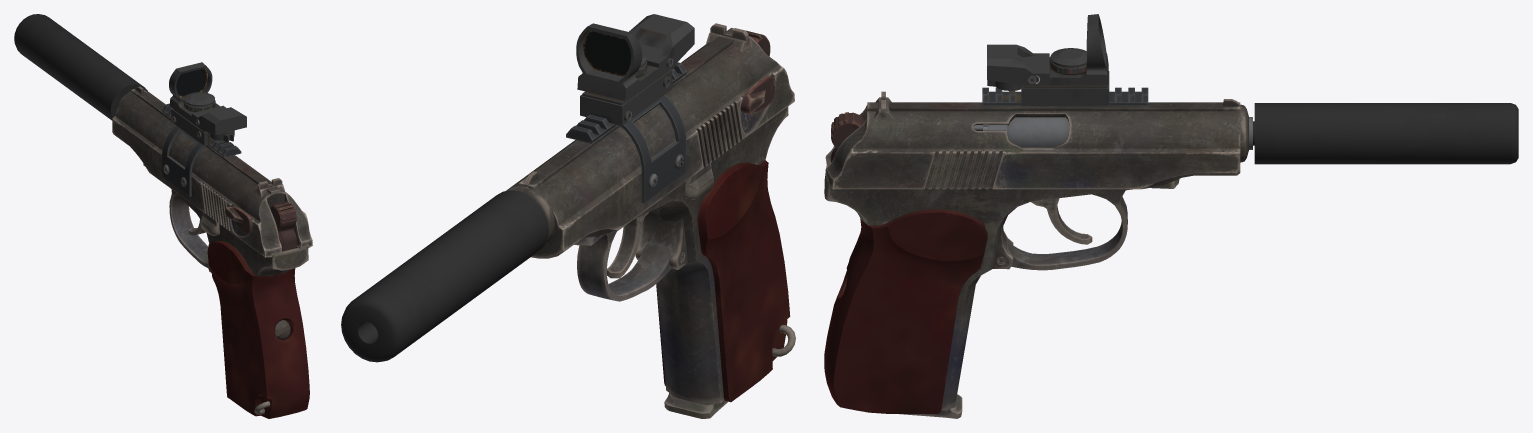
Rendered from Makarov_aligned.obj.
3 renders of one model, left to right at view 1: azimuth 30°, elevation 25°; view 2: azimuth 150°, elevation 25°; view 3: azimuth 270°, elevation 25°, orthographic. The views are drawn at different scales.
Visible parts, largest first — view 1: body_1Makarov_0, slide_1Makarov_0, suppressor_lp_suppressor_0, bottom_lp_holder_0, hammer_1Makarov_0, fireselect_1Makarov_0, magrelease_1Makarov_0; view 2: body_1Makarov_0, slide_1Makarov_0, suppressor_lp_suppressor_0, bottom_lp_holder_0, trigger_1Makarov_0, fireselect_1Makarov_0, mag_1Makarov_0, magrelease_1Makarov_0; view 3: body_1Makarov_0, slide_1Makarov_0, suppressor_lp_suppressor_0, bottom_lp_holder_0, trigger_1Makarov_0, hammer_1Makarov_0.
Boxes of the visible parts, <box> form: body_1Makarov_0: <box>143,163,309,418</box>; slide_1Makarov_0: <box>112,86,312,257</box>; suppressor_lp_suppressor_0: <box>14,14,147,120</box>; bottom_lp_holder_0: <box>162,62,246,196</box>; hammer_1Makarov_0: <box>270,201,296,251</box>; fireselect_1Makarov_0: <box>225,206,251,233</box>; magrelease_1Makarov_0: <box>200,212,219,235</box>; body_1Makarov_0: <box>574,106,795,403</box>; slide_1Makarov_0: <box>506,23,794,258</box>; suppressor_lp_suppressor_0: <box>341,190,548,362</box>; bottom_lp_holder_0: <box>566,14,694,203</box>; trigger_1Makarov_0: <box>607,212,648,278</box>; fireselect_1Makarov_0: <box>740,76,776,113</box>; mag_1Makarov_0: <box>664,393,727,418</box>; magrelease_1Makarov_0: <box>684,163,713,199</box>; body_1Makarov_0: <box>824,117,1252,413</box>; slide_1Makarov_0: <box>825,91,1248,189</box>; suppressor_lp_suppressor_0: <box>1253,103,1518,164</box>; bottom_lp_holder_0: <box>982,14,1148,106</box>; trigger_1Makarov_0: <box>1031,198,1092,244</box>; hammer_1Makarov_0: <box>831,112,864,162</box>.
Size of the model in its own units: 0.2587 by 1.36 by 2.21.
3 materials, 3 textured.
